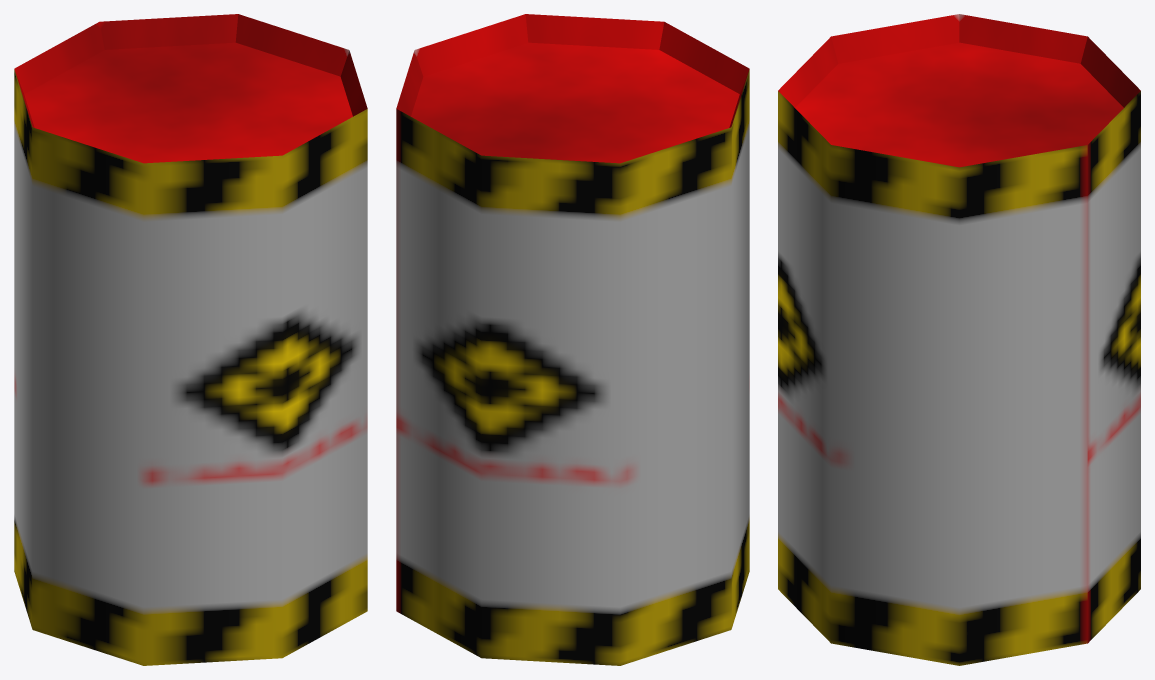
The model's file is barrel.fbx.
3 renders of one model, left to right at view 1: azimuth 30°, elevation 25°; view 2: azimuth 150°, elevation 25°; view 3: azimuth 270°, elevation 25°, orthographic.
Parts seen in each view (by area): view 1: Cylinder001; view 2: Cylinder001; view 3: Cylinder001.
Part boxes in pixels (x1,y1,x2,y2): Cylinder001: (14, 14, 367, 665); Cylinder001: (396, 14, 749, 665); Cylinder001: (778, 14, 1140, 665).
Size of the model in its own units: 9.9 by 15 by 9.9.
